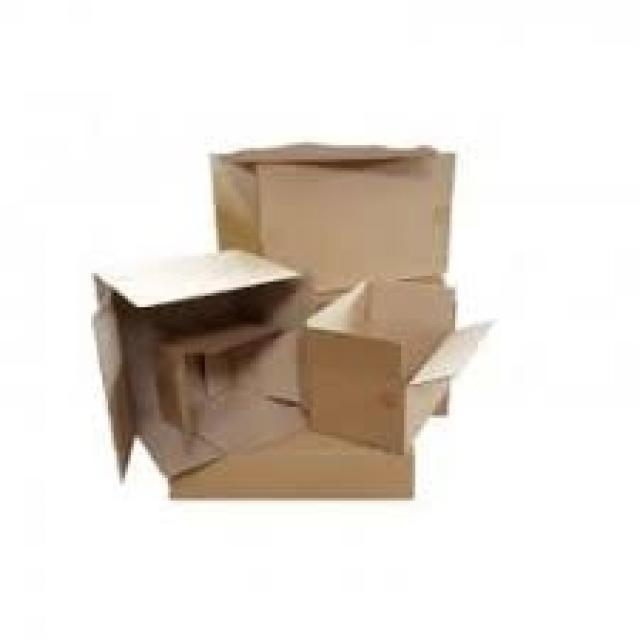cardboard paper: (93, 143, 485, 496)
